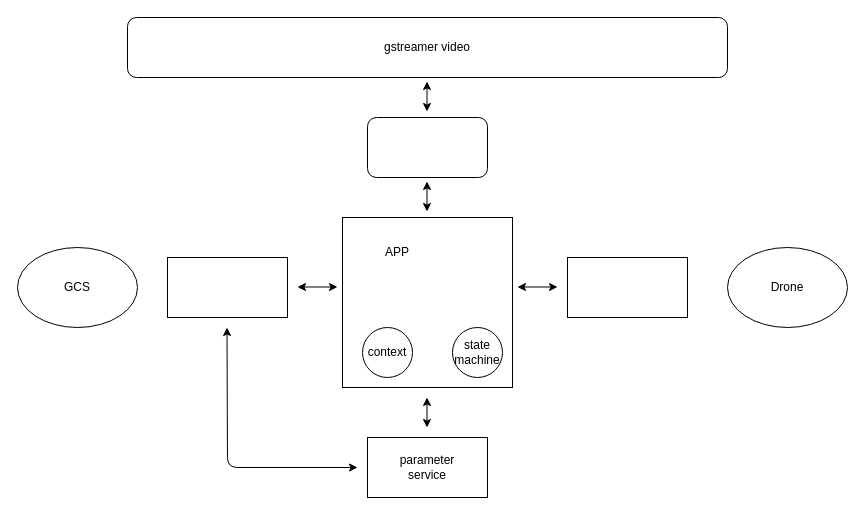
This 865x515 diagram has some shape labels left out. Each missing label, with the box of its shape:
gst bridge: (366, 116, 488, 178)
mavlink service: (166, 256, 288, 318)
MSP: (566, 256, 688, 318)
